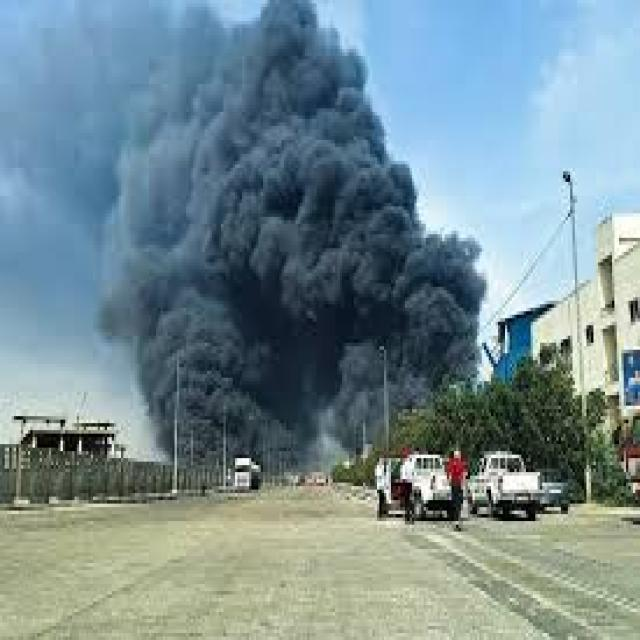explosion: (95, 2, 485, 516)
